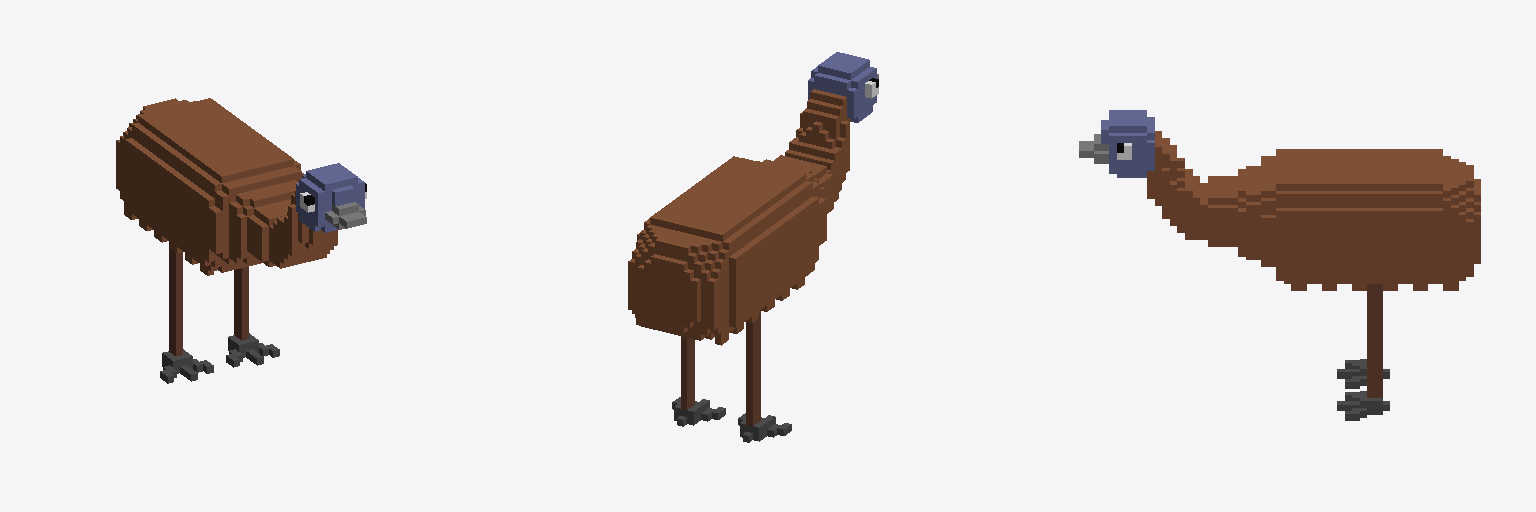
The picture shows the model from 3 angles: view 1: azimuth 30°, elevation 25°; view 2: azimuth 150°, elevation 25°; view 3: azimuth 270°, elevation 25°; orthographic projection.
Parts seen in each view (by area): view 1: object 1; view 2: object 1; view 3: object 1.
Boxes of the visible parts, x1=… form: object 1: x1=116, y1=98, x2=366, y2=383; object 1: x1=628, y1=52, x2=878, y2=442; object 1: x1=1079, y1=110, x2=1480, y2=420.
Size of the model in its own units: 1.7 by 4 by 5.3.
1 materials, 1 textured.